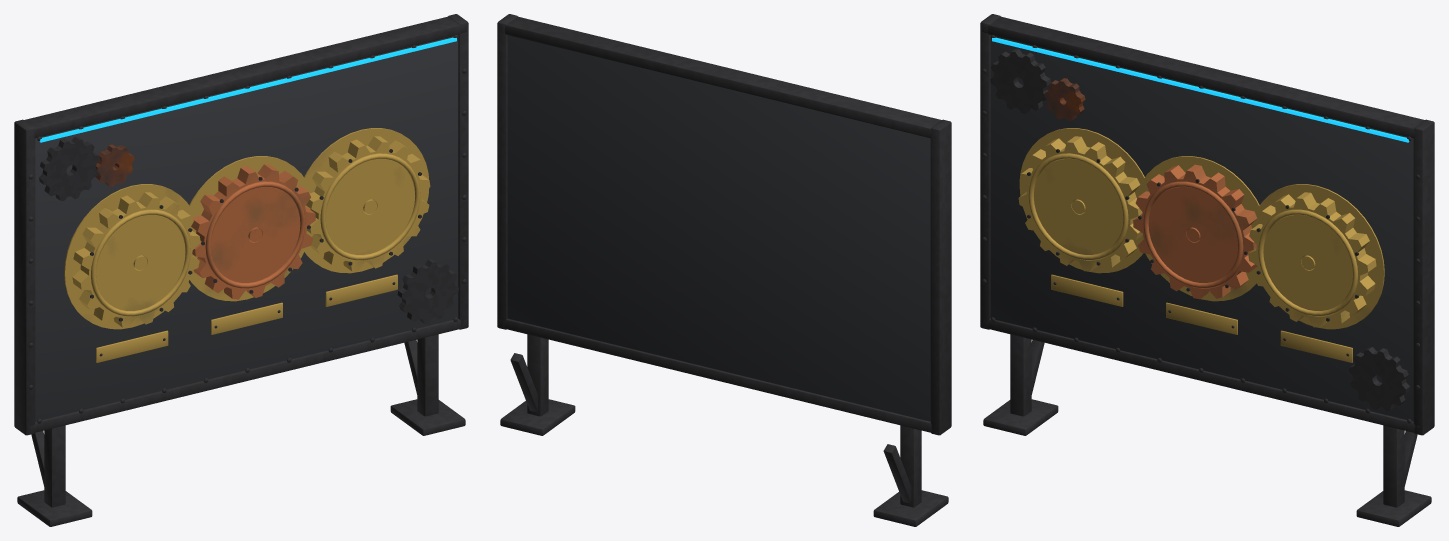
File: gear_cluster.glb
3 views of the same model, side by side, from view 1: azimuth 30°, elevation 25°; view 2: azimuth 150°, elevation 25°; view 3: azimuth 330°, elevation 25° (orthographic).
Visible parts, largest first — view 1: panel, mrg_gear_cluster_iron, g0_body, g2_body, g1_body, mrg_gear_cluster_brass, glowStrip, cornerGearB; view 2: panel, mrg_gear_cluster_iron; view 3: panel, mrg_gear_cluster_iron, g2_body, g1_body, g0_body, mrg_gear_cluster_brass, glowStrip, cornerGearB.
Part boxes in pixels (x1=…): panel: x1=35, y1=35, x2=458, y2=421; mrg_gear_cluster_iron: x1=14, y1=14, x2=468, y2=526; g0_body: x1=72, y1=192, x2=200, y2=327; g2_body: x1=306, y1=136, x2=430, y2=271; g1_body: x1=191, y1=164, x2=315, y2=299; mrg_gear_cluster_brass: x1=64, y1=128, x2=429, y2=362; glowStrip: x1=39, y1=37, x2=456, y2=142; cornerGearB: x1=95, y1=144, x2=134, y2=186; panel: x1=507, y1=35, x2=930, y2=421; mrg_gear_cluster_iron: x1=497, y1=14, x2=951, y2=526; panel: x1=990, y1=35, x2=1413, y2=421; mrg_gear_cluster_iron: x1=980, y1=14, x2=1434, y2=526; g2_body: x1=1248, y1=192, x2=1376, y2=327; g1_body: x1=1133, y1=164, x2=1257, y2=299; g0_body: x1=1018, y1=136, x2=1142, y2=271; mrg_gear_cluster_brass: x1=1019, y1=128, x2=1384, y2=362; glowStrip: x1=992, y1=37, x2=1409, y2=142; cornerGearB: x1=1044, y1=78, x2=1085, y2=120.
Bounding box in the file's own units: 3.09 × 2.62 × 0.4838.
6 materials, 4 textured.
